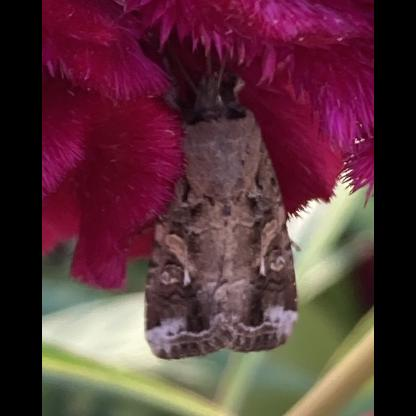Fall Armyworm Moth: (125, 24, 305, 364)
